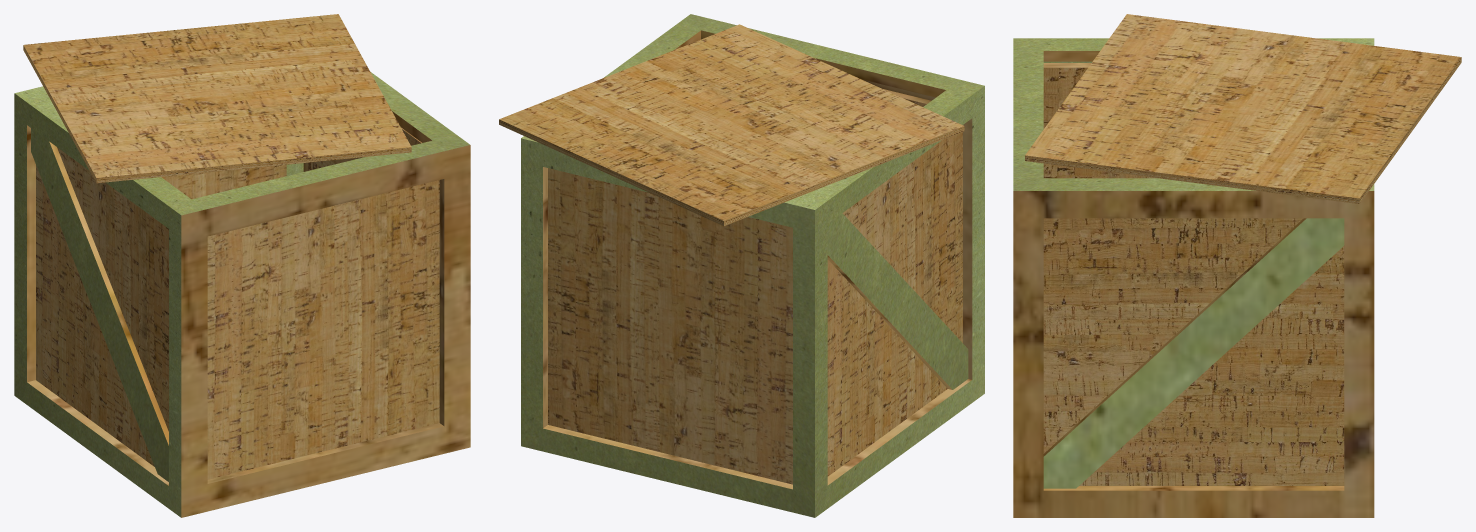
File: KOROBpodBALON.fbx
3 views of the same model, side by side, from view 1: azimuth 30°, elevation 25°; view 2: azimuth 150°, elevation 25°; view 3: azimuth 270°, elevation 25° (orthographic). The views are drawn at different scales.
Parts seen in each view (by area): view 1: YASSHIK; view 2: YASSHIK; view 3: YASSHIK.
Part boxes in pixels (bbox=[...]): YASSHIK: bbox=[14, 14, 470, 517]; YASSHIK: bbox=[499, 14, 984, 517]; YASSHIK: bbox=[1013, 14, 1461, 517].
Size of the model in its own units: 480 by 405 by 492.
2 materials, 2 textured.
